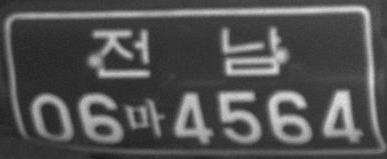0: (28, 91, 75, 142)
4: (321, 87, 364, 144), (173, 90, 214, 146)
5: (217, 89, 262, 146)
6: (267, 89, 313, 147), (77, 92, 125, 144)
마: (126, 97, 164, 139)
전남_D: (92, 25, 283, 79)
